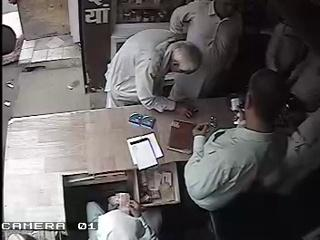Normal: (184, 68, 292, 237), (104, 28, 202, 115), (168, 0, 246, 102), (94, 193, 160, 240)
